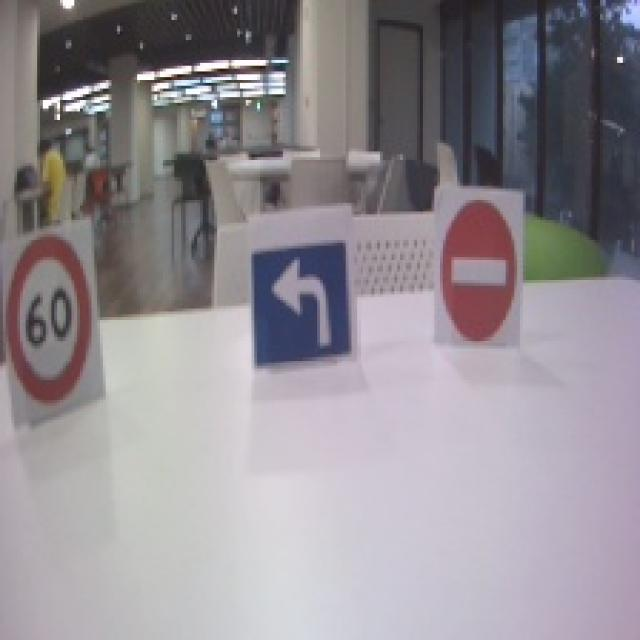DoNotEnterSign: (441, 198, 519, 342)
